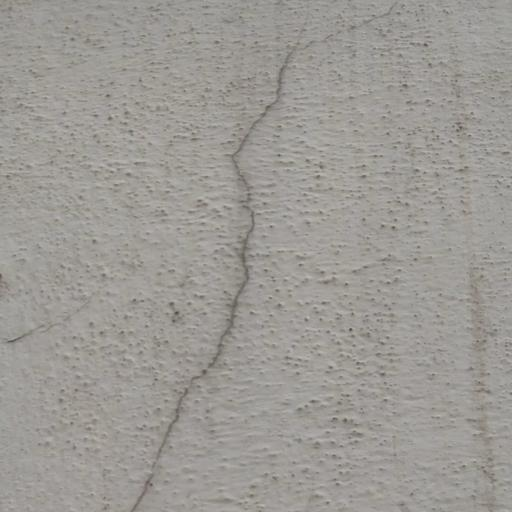minor_crack: (114, 0, 409, 512)
